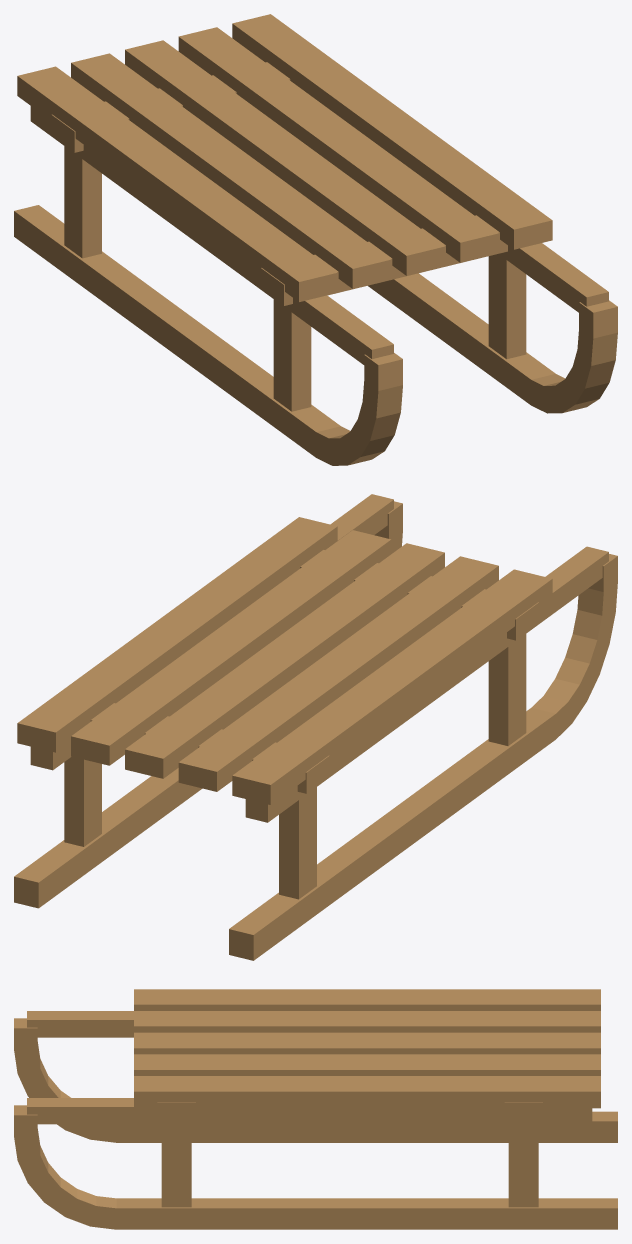
The model's file is NEW_RECOVERY_021_LOD2.fbx.
The picture shows the model from 3 angles, top to bottom: view 1: azimuth 30°, elevation 25°; view 2: azimuth 150°, elevation 25°; view 3: azimuth 270°, elevation 25°; orthographic projection. The views are drawn at different scales.
Parts seen in each view (by area): view 1: Sled_fused_finite_frame; view 2: Sled_fused_finite_frame; view 3: Sled_fused_finite_frame.
Boxes of the visible parts, <box> form: Sled_fused_finite_frame: <box>14,14,617,465</box>; Sled_fused_finite_frame: <box>14,494,617,960</box>; Sled_fused_finite_frame: <box>14,989,617,1229</box>.
Size of the model in its own units: 56.98 by 141 by 36.3.
